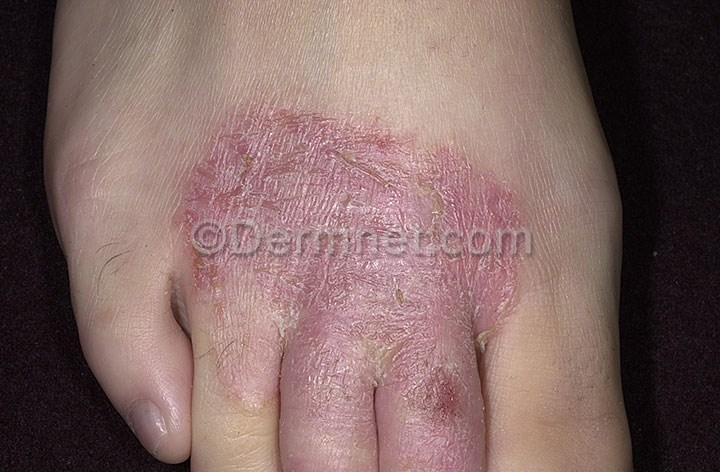Eczema: (197, 87, 531, 421)
